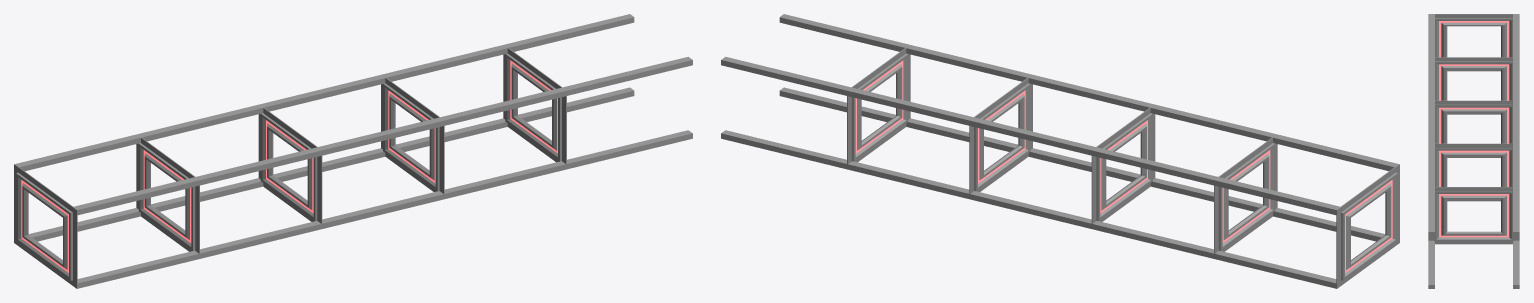
File: SquareElevatorPath.fbx
The picture shows the model from 3 angles, left to right: view 1: azimuth 30°, elevation 25°; view 2: azimuth 150°, elevation 25°; view 3: azimuth 270°, elevation 25°; orthographic projection. The views are drawn at different scales.
Parts seen in each view (by area): view 1: Cube.033; view 2: Cube.033; view 3: Cube.033.
Part boxes in pixels (left/top/right/bottom): Cube.033: left=14, top=14, right=692, bottom=288; Cube.033: left=721, top=14, right=1399, bottom=288; Cube.033: left=1428, top=14, right=1519, bottom=288.
Size of the model in its own units: 130 by 15.87 by 22.93.
